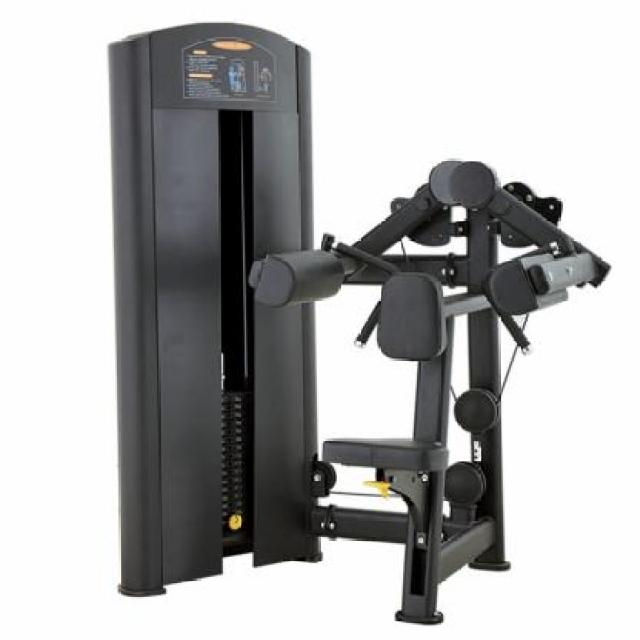lateral raises machine: (106, 18, 614, 628)
